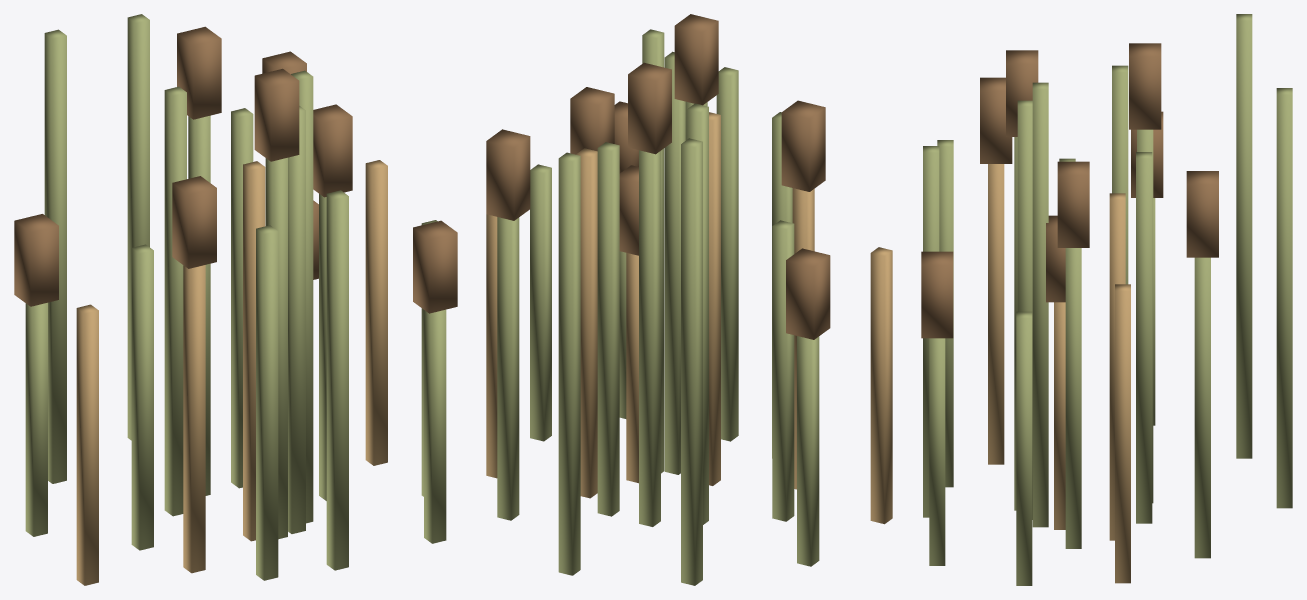
The model's file is reeds.glb.
3 views of the same model, side by side, from view 1: azimuth 30°, elevation 25°; view 2: azimuth 150°, elevation 25°; view 3: azimuth 270°, elevation 25° (orthographic).
Parts seen in each view (by area): view 1: stems, dry, heads; view 2: stems, dry, heads; view 3: stems, heads, dry.
Part boxes in pixels (x1,y1,x2,y2): stems: (25, 14, 446, 580); dry: (76, 160, 387, 585); heads: (14, 26, 457, 313); stems: (497, 29, 819, 585); dry: (486, 112, 892, 524); heads: (486, 14, 830, 339); stems: (923, 14, 1292, 585); heads: (921, 43, 1218, 338); dry: (988, 164, 1130, 583).
Size of the model in its own units: 1.52 by 1.85 by 1.38.
